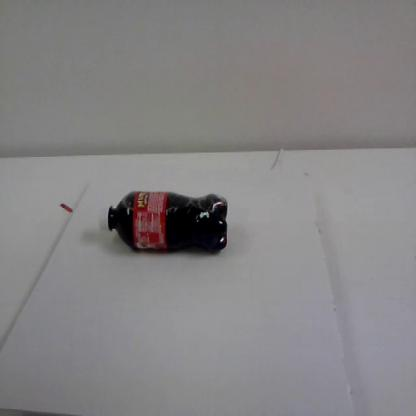bottle: (96, 186, 228, 257)
